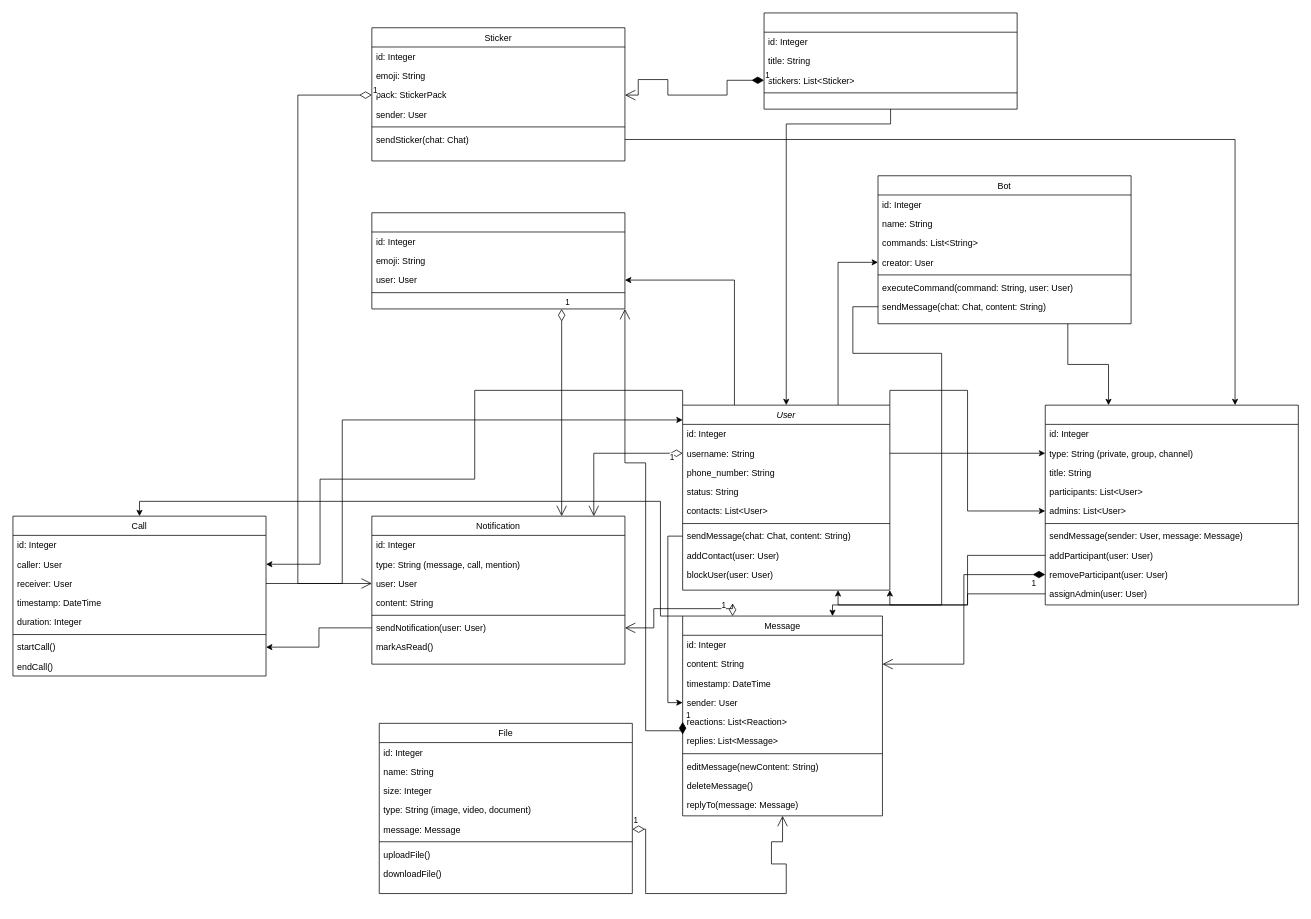
The diagram is 1311 pixels wide and 919 high, and some of its shapes have lost their labels. Here are the shapes that lost their labels. From the top down, the box of each, then its label:
(763, 12, 1017, 109): StickerPack
(371, 212, 625, 309): Reaction
(1045, 404, 1298, 605): Chat
